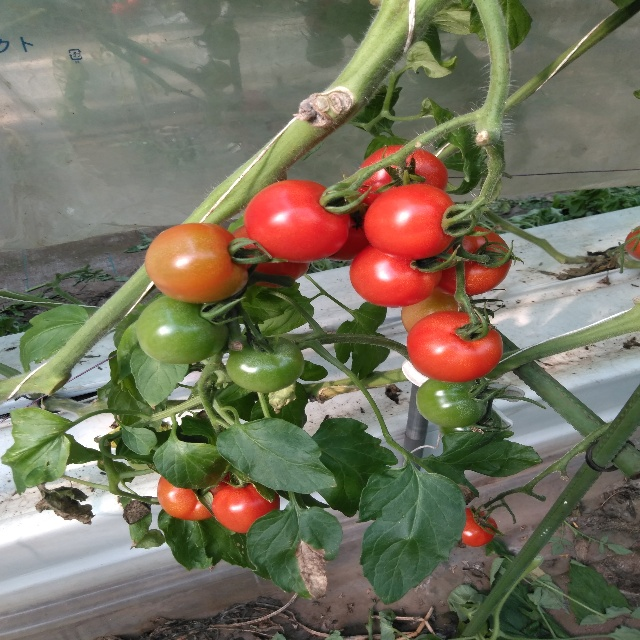l_fully_ripened: (243, 180, 349, 263), (363, 183, 458, 261), (407, 309, 503, 382), (350, 243, 442, 307), (432, 225, 512, 297), (356, 145, 448, 206), (230, 224, 309, 288), (212, 481, 279, 534), (323, 201, 369, 261), (462, 508, 498, 546)
l_green: (136, 294, 230, 365), (225, 336, 305, 394), (416, 378, 489, 428), (438, 408, 501, 437)
l_half_ripened: (144, 222, 250, 304), (156, 472, 234, 522), (401, 290, 477, 333)
